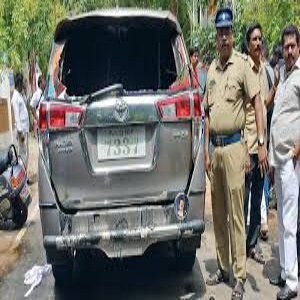door: (137, 110, 230, 214)
